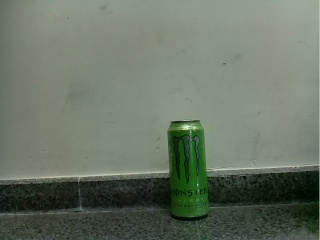botella plastico: (166, 119, 209, 219)
